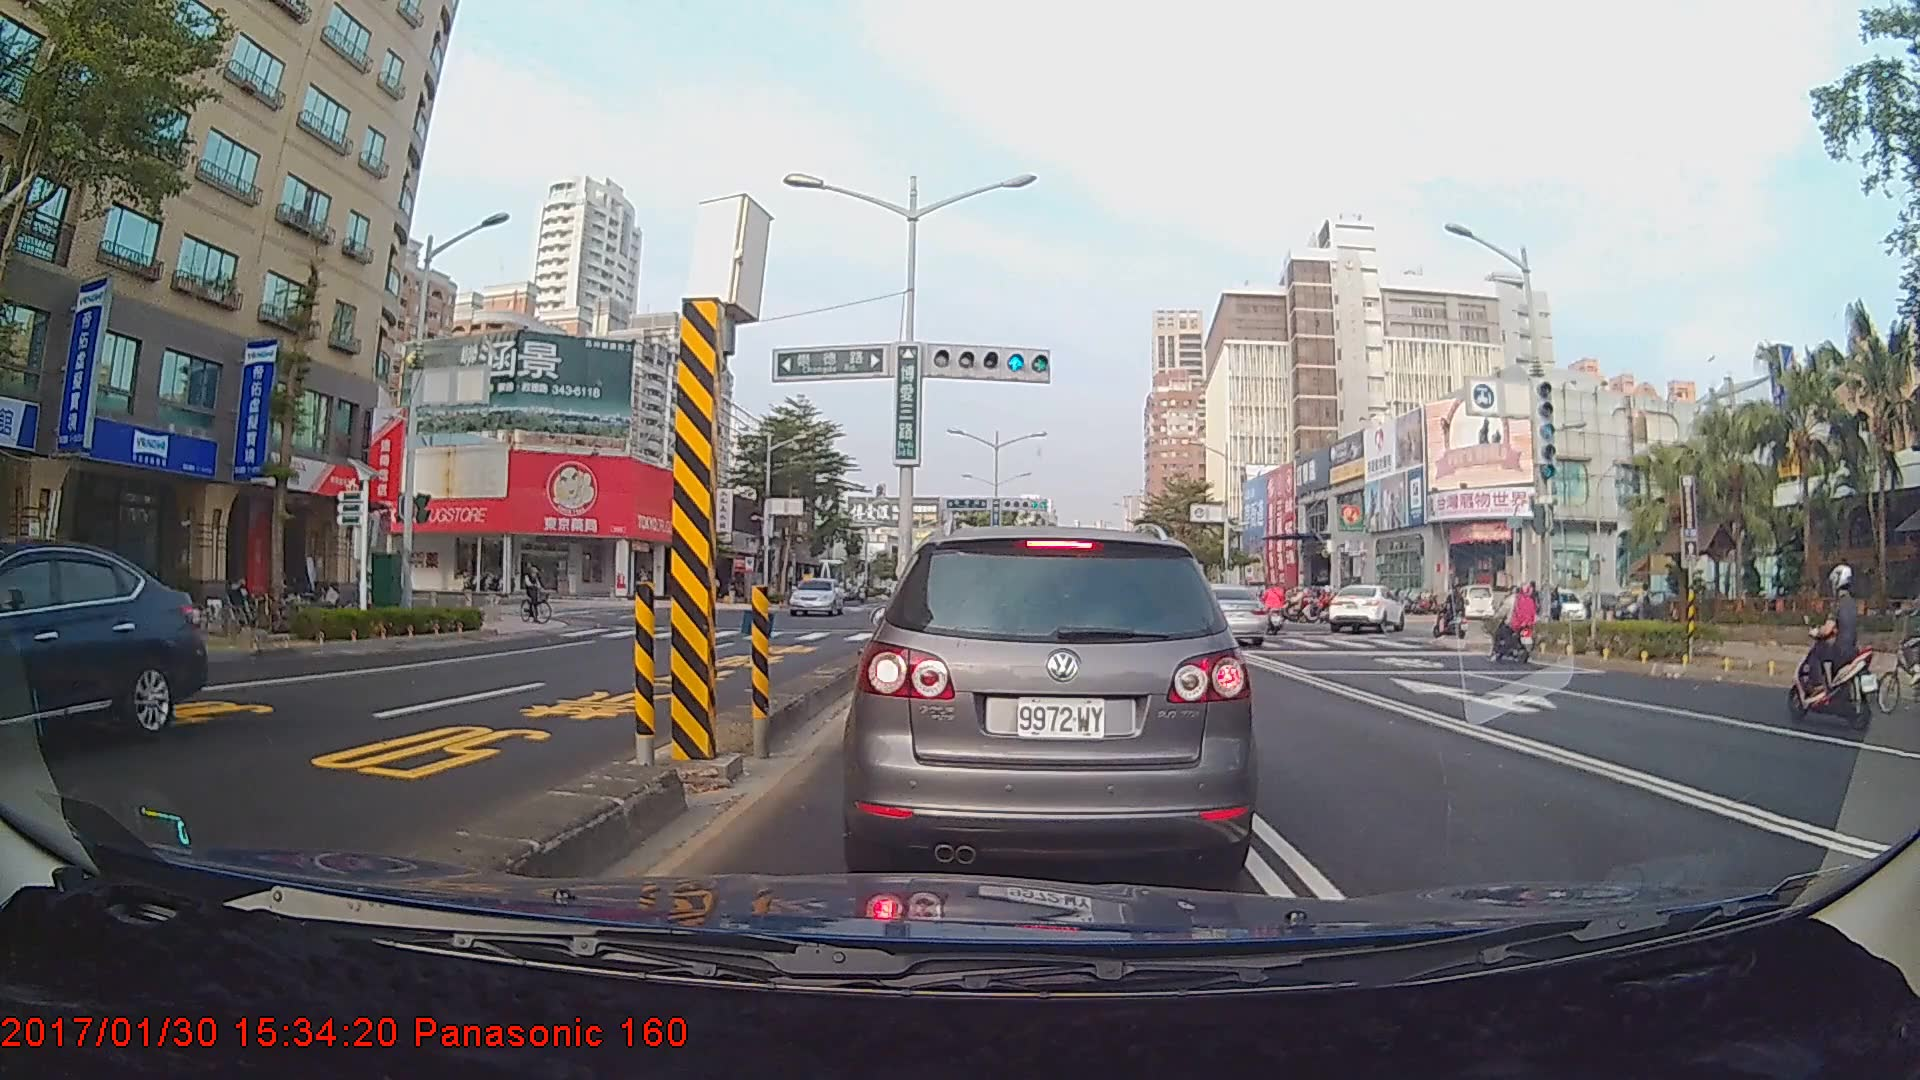pedestrian: (1630, 581, 1660, 640)
rider: (1787, 567, 1888, 724), (1485, 582, 1548, 668), (518, 559, 561, 629), (1433, 582, 1470, 646)
vehicle: (852, 520, 1251, 879), (0, 537, 205, 760), (1175, 582, 1267, 647), (1326, 582, 1405, 633), (787, 575, 844, 615)
